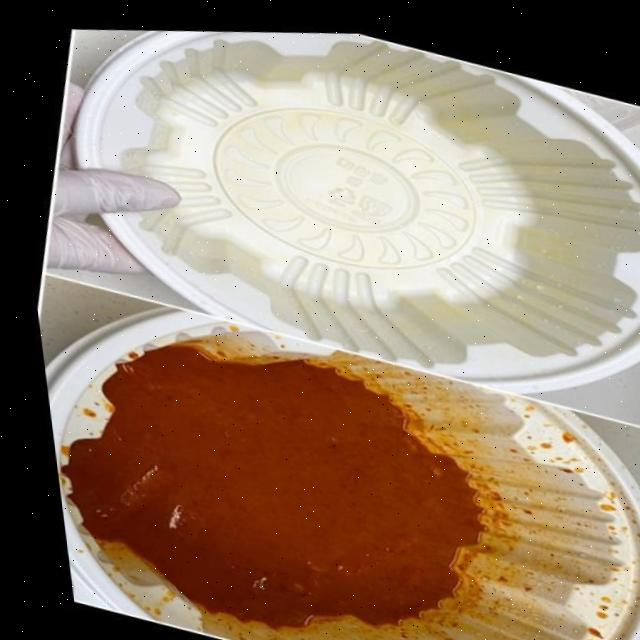disposable: (10, 0, 640, 392)
